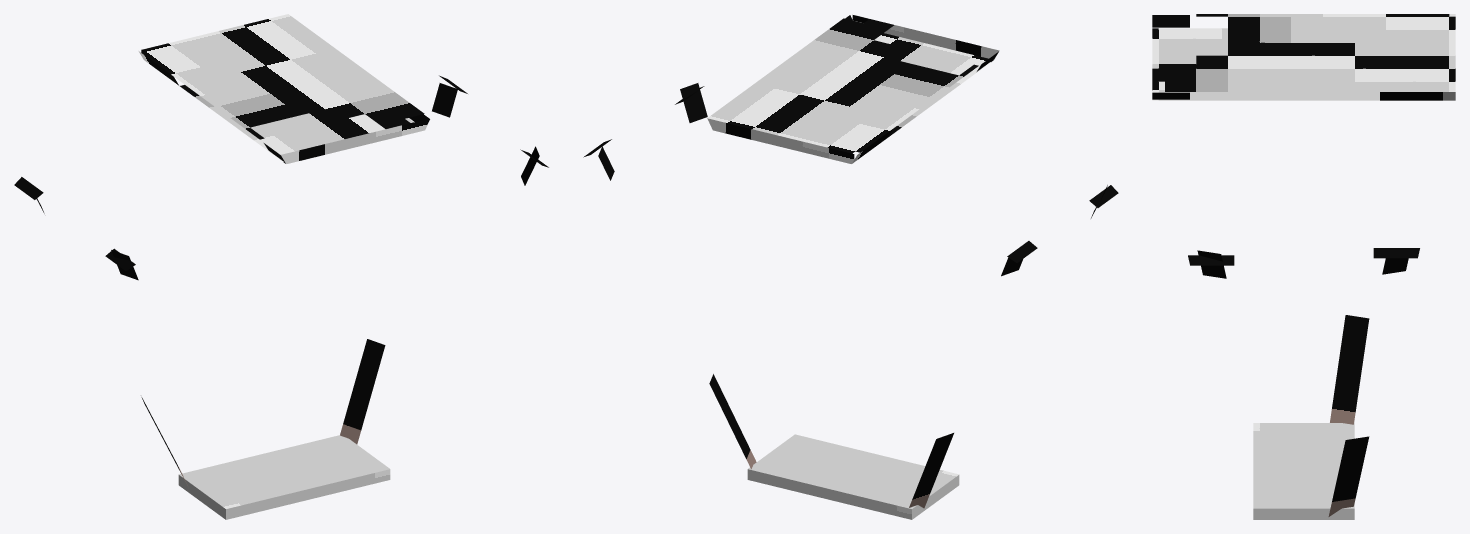
The model's file is parachute.obj.
3 views of the same model, side by side, from view 1: azimuth 30°, elevation 25°; view 2: azimuth 150°, elevation 25°; view 3: azimuth 270°, elevation 25° (orthographic). The views are drawn at different scales.
Visible parts, largest first — view 1: cuboid8, cube, cube3, cuboid7; view 2: cuboid8, cube, cube1, cube3, cuboid7, cube5; view 3: cuboid8, cube, cube1, cube3, cuboid, cuboid7, cube5.
Part boxes in pixels (x1=…): cuboid8: x1=138, y1=14, x2=427, y2=163; cube: x1=178, y1=435, x2=390, y2=519; cube3: x1=340, y1=83, x2=457, y2=444; cuboid7: x1=14, y1=143, x2=284, y2=270; cuboid8: x1=707, y1=15, x2=999, y2=163; cube: x1=747, y1=434, x2=959, y2=519; cube1: x1=909, y1=257, x2=1022, y2=508; cube3: x1=598, y1=146, x2=756, y2=469; cuboid7: x1=977, y1=51, x2=1118, y2=262; cube5: x1=680, y1=83, x2=707, y2=122; cuboid8: x1=1152, y1=14, x2=1455, y2=100; cube: x1=1253, y1=423, x2=1354, y2=519; cube1: x1=1330, y1=315, x2=1369, y2=424; cube3: x1=1328, y1=258, x2=1408, y2=516; cuboid: x1=1152, y1=92, x2=1419, y2=265; cuboid7: x1=1152, y1=15, x2=1189, y2=27; cube5: x1=1197, y1=250, x2=1226, y2=278.
Size of the model in its own units: 2.64 by 2.31 by 1.5.
